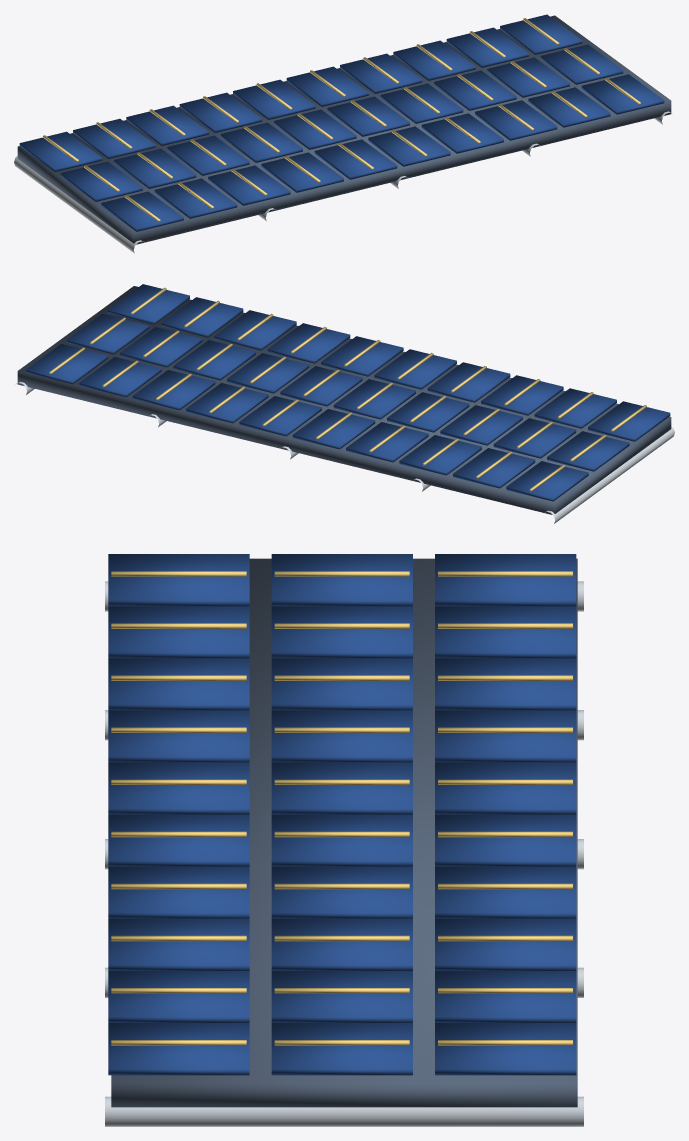
Rendered from 22_L85_ServiceSpacecraftStarboardSolarWing.glb.
3 renders of one model, top to bottom at view 1: azimuth 30°, elevation 25°; view 2: azimuth 150°, elevation 25°; view 3: azimuth 270°, elevation 25°, orthographic. The views are drawn at different scales.
Visible parts, largest first — view 1: L85_ServiceSpacecraftStarboar_Part_0002, L85_ServiceSpacecraftStarboar_Part_0001, L85_ServiceSpacecraftStarboar_Part_0000, L85_ServiceSpacecraftStarboar_Part_0003, L85_ServiceSpacecraftStarboar_Part_0004, L85_ServiceSpacecraftStarboar_Part_0005, L85_ServiceSpacecraftStarboar_Part_0007; view 2: L85_ServiceSpacecraftStarboar_Part_0002, L85_ServiceSpacecraftStarboar_Part_0001, L85_ServiceSpacecraftStarboar_Part_0000, L85_ServiceSpacecraftStarboar_Part_0003, L85_ServiceSpacecraftStarboar_Part_0005, L85_ServiceSpacecraftStarboar_Part_0004, L85_ServiceSpacecraftStarboar_Part_0007; view 3: L85_ServiceSpacecraftStarboar_Part_0001, L85_ServiceSpacecraftStarboar_Part_0002, L85_ServiceSpacecraftStarboar_Part_0000, L85_ServiceSpacecraftStarboar_Part_0003, L85_ServiceSpacecraftStarboar_Part_0005, L85_ServiceSpacecraftStarboar_Part_0004, L85_ServiceSpacecraftStarboar_Part_0007, L85_ServiceSpacecraftStarboar_Part_0006.
Boxes of the visible parts, x1=… form: L85_ServiceSpacecraftStarboar_Part_0002: x1=286, y1=14, x2=610, y2=179; L85_ServiceSpacecraftStarboar_Part_0001: x1=19, y1=79, x2=356, y2=231; L85_ServiceSpacecraftStarboar_Part_0000: x1=17, y1=15, x2=671, y2=244; L85_ServiceSpacecraftStarboar_Part_0003: x1=540, y1=44, x2=664, y2=114; L85_ServiceSpacecraftStarboar_Part_0004: x1=43, y1=83, x2=332, y2=221; L85_ServiceSpacecraftStarboar_Part_0005: x1=310, y1=18, x2=587, y2=169; L85_ServiceSpacecraftStarboar_Part_0007: x1=14, y1=111, x2=672, y2=253; L85_ServiceSpacecraftStarboar_Part_0002: x1=26, y1=297, x2=456, y2=436; L85_ServiceSpacecraftStarboar_Part_0001: x1=292, y1=362, x2=670, y2=501; L85_ServiceSpacecraftStarboar_Part_0000: x1=17, y1=286, x2=671, y2=514; L85_ServiceSpacecraftStarboar_Part_0003: x1=66, y1=284, x2=189, y2=354; L85_ServiceSpacecraftStarboar_Part_0005: x1=49, y1=300, x2=433, y2=426; L85_ServiceSpacecraftStarboar_Part_0004: x1=316, y1=366, x2=646, y2=491; L85_ServiceSpacecraftStarboar_Part_0007: x1=16, y1=382, x2=674, y2=523; L85_ServiceSpacecraftStarboar_Part_0001: x1=108, y1=554, x2=576, y2=814; L85_ServiceSpacecraftStarboar_Part_0002: x1=108, y1=762, x2=576, y2=1075; L85_ServiceSpacecraftStarboar_Part_0000: x1=111, y1=558, x2=577, y2=1107; L85_ServiceSpacecraftStarboar_Part_0003: x1=108, y1=1023, x2=412, y2=1075; L85_ServiceSpacecraftStarboar_Part_0005: x1=111, y1=779, x2=572, y2=1045; L85_ServiceSpacecraftStarboar_Part_0004: x1=111, y1=571, x2=572, y2=784; L85_ServiceSpacecraftStarboar_Part_0007: x1=105, y1=581, x2=583, y2=1126; L85_ServiceSpacecraftStarboar_Part_0006: x1=111, y1=1040, x2=409, y2=1045.
Bounding box in the file's own units: 2.87 × 0.1458 × 1.1.
